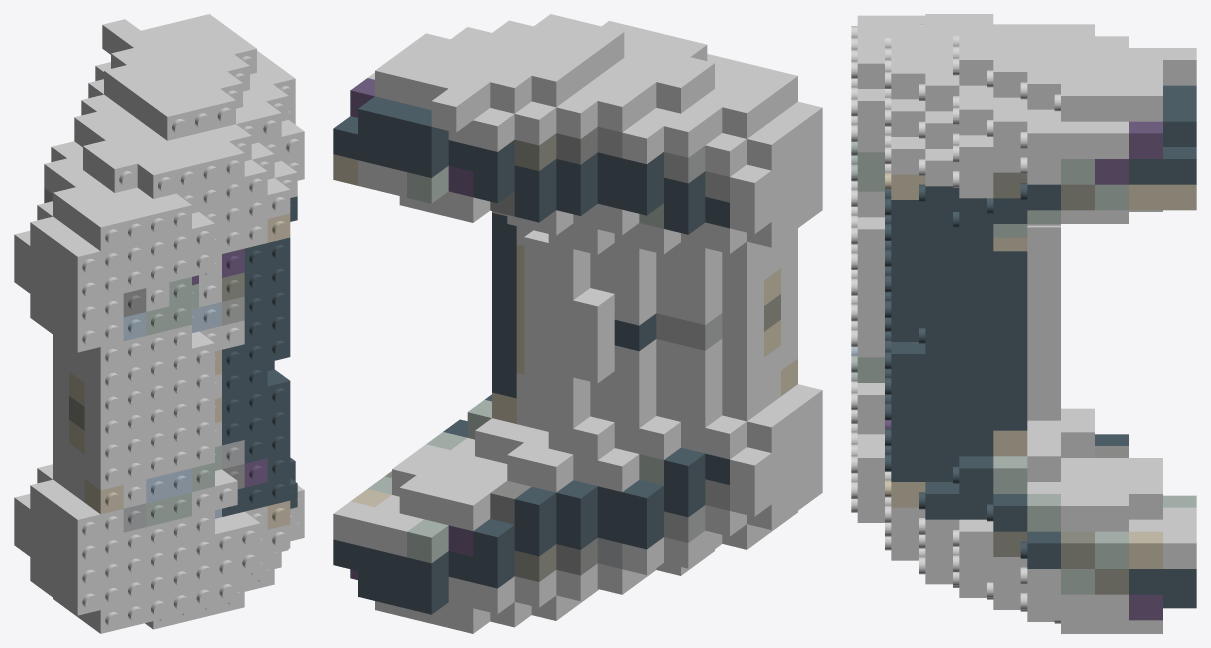
File: full.glb
3 views of the same model, side by side, from view 1: azimuth 30°, elevation 25°; view 2: azimuth 150°, elevation 25°; view 3: azimuth 270°, elevation 25° (orthographic). The views are drawn at different scales.
Parts seen in each view (by area): view 1: world; view 2: world; view 3: world.
Boxes of the visible parts, x1,y1,x2,y2 form: world: [14, 14, 304, 633]; world: [333, 14, 822, 633]; world: [851, 14, 1196, 633].
Size of the model in its own units: 104 by 168 by 97.8.
